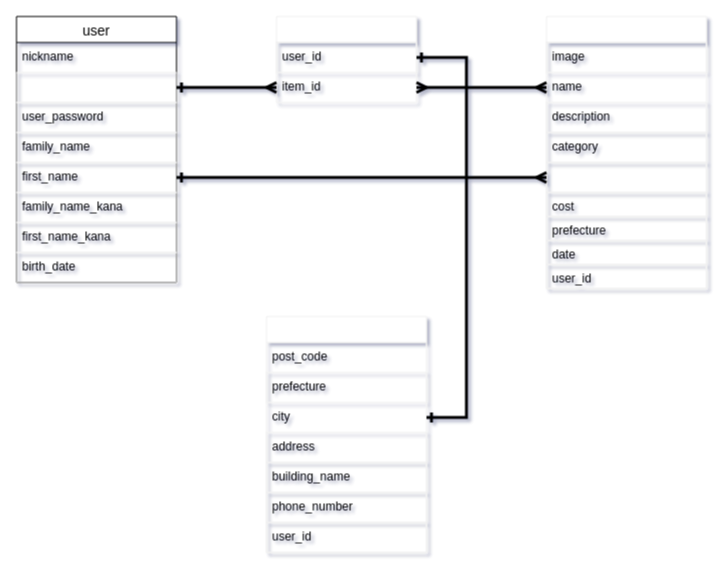
Some shapes in this 723 by 569 pixel diagram are drawn without their labels. Here are the shapes that lost their labels. From the top down, the box of each, then its label:
(276, 16, 416, 102): deal
(16, 72, 176, 102): email
(546, 16, 706, 288): item
(546, 162, 706, 192): condition
(266, 316, 426, 552): destination
